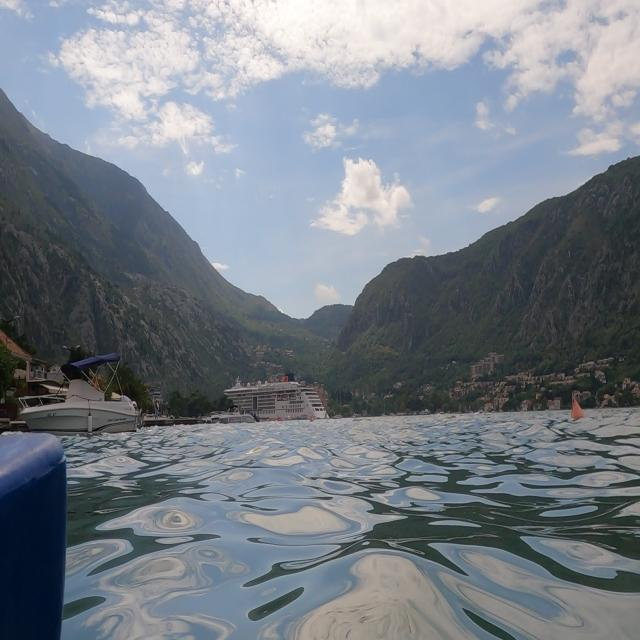boat: (18, 348, 141, 438), (214, 379, 347, 434)
buoy: (564, 394, 589, 432)
